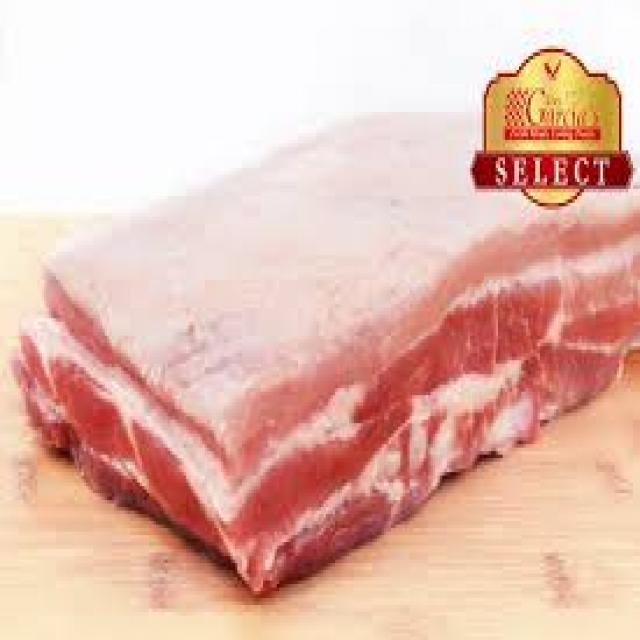Pork: (14, 115, 640, 595)
